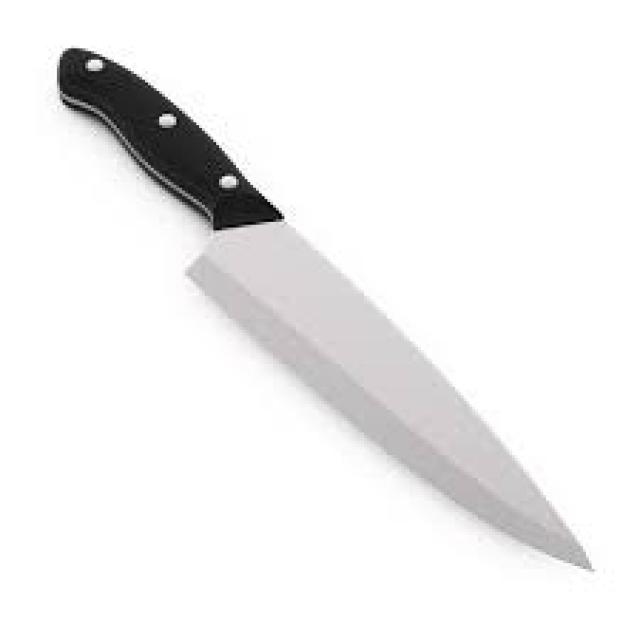Knife: (54, 42, 595, 572)
